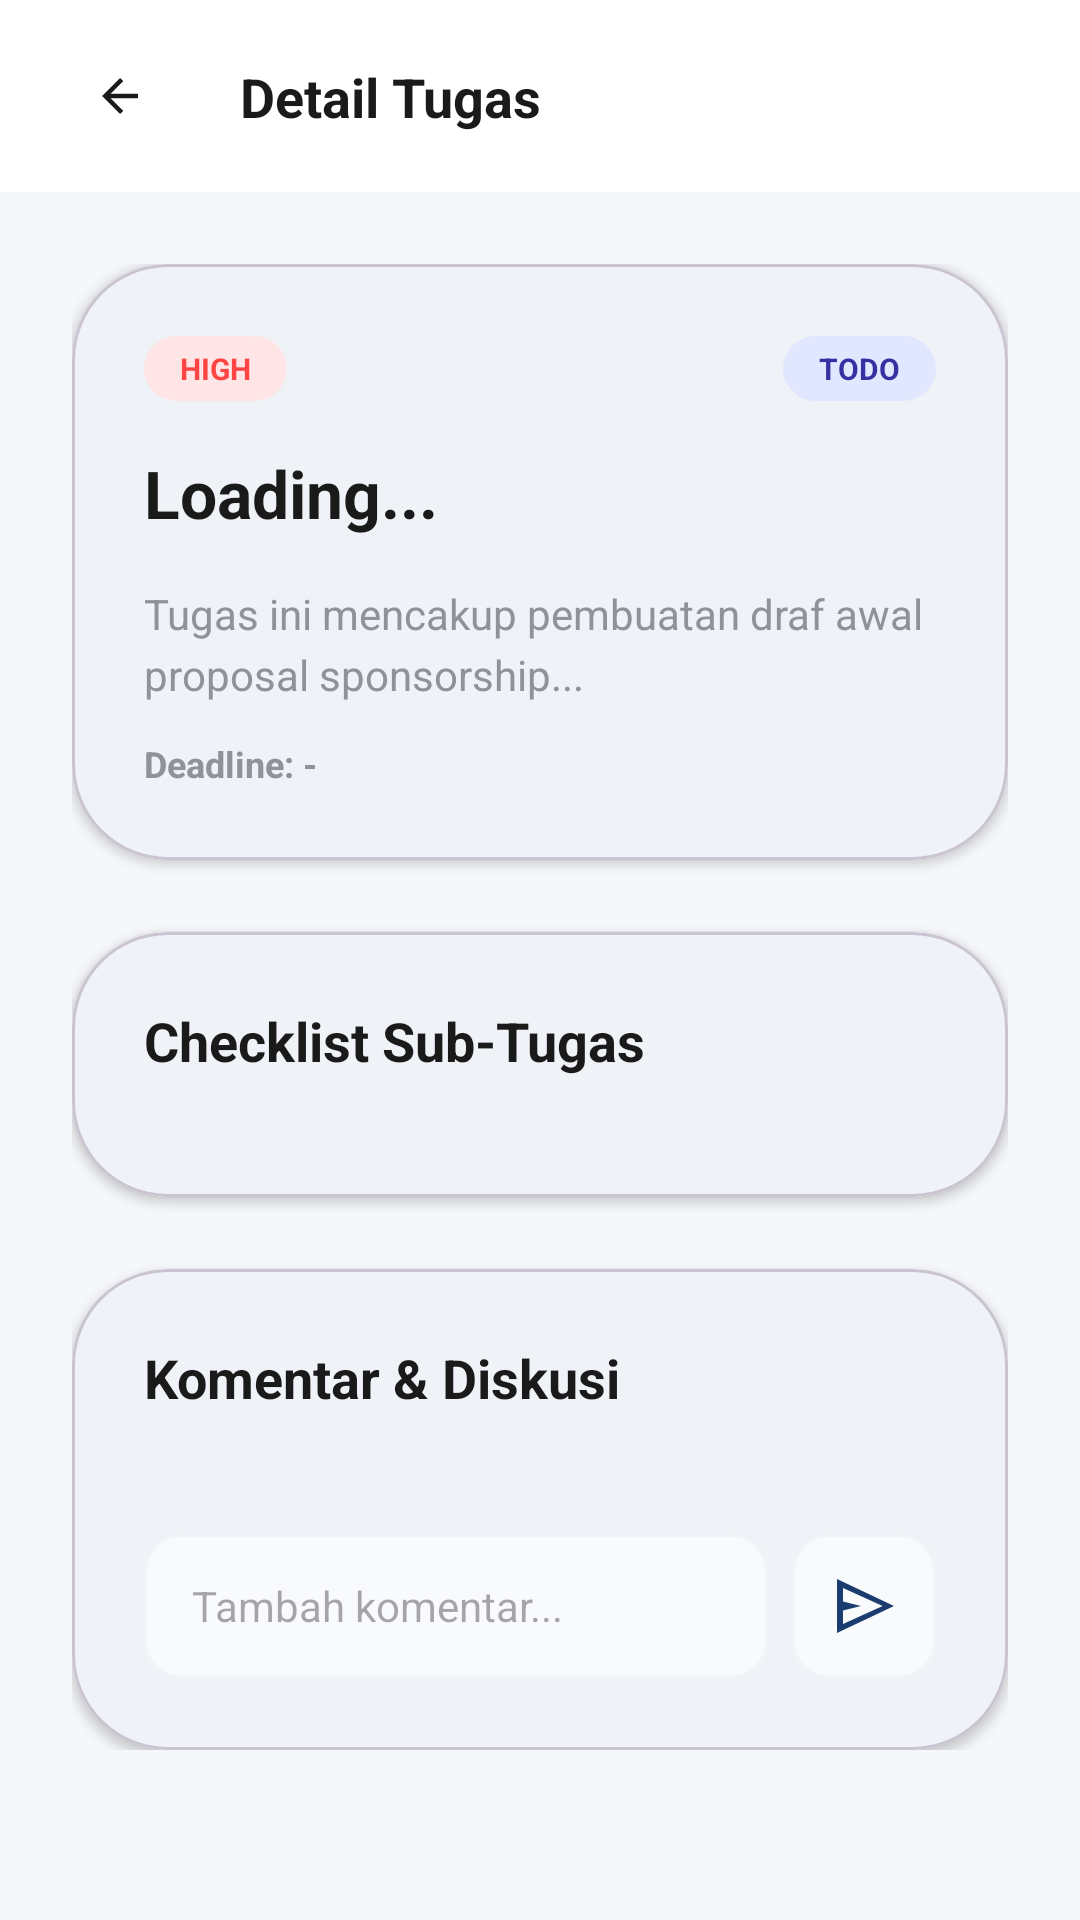

Point at icon controls on the screen. Image size 1080w x 1920h, points as (x,y).
back: (120,96)
send: (865,1606)
